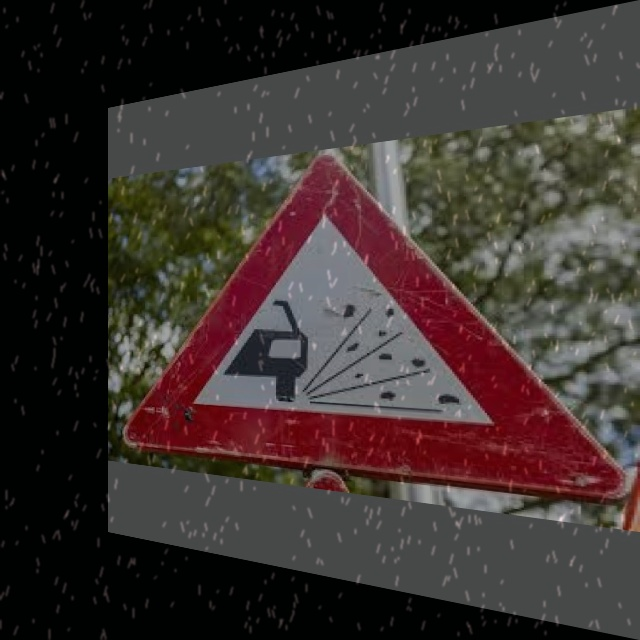Loose_Gravel: (140, 117, 605, 505)
